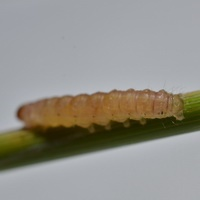insect: (17, 89, 199, 132), (17, 89, 183, 131)
